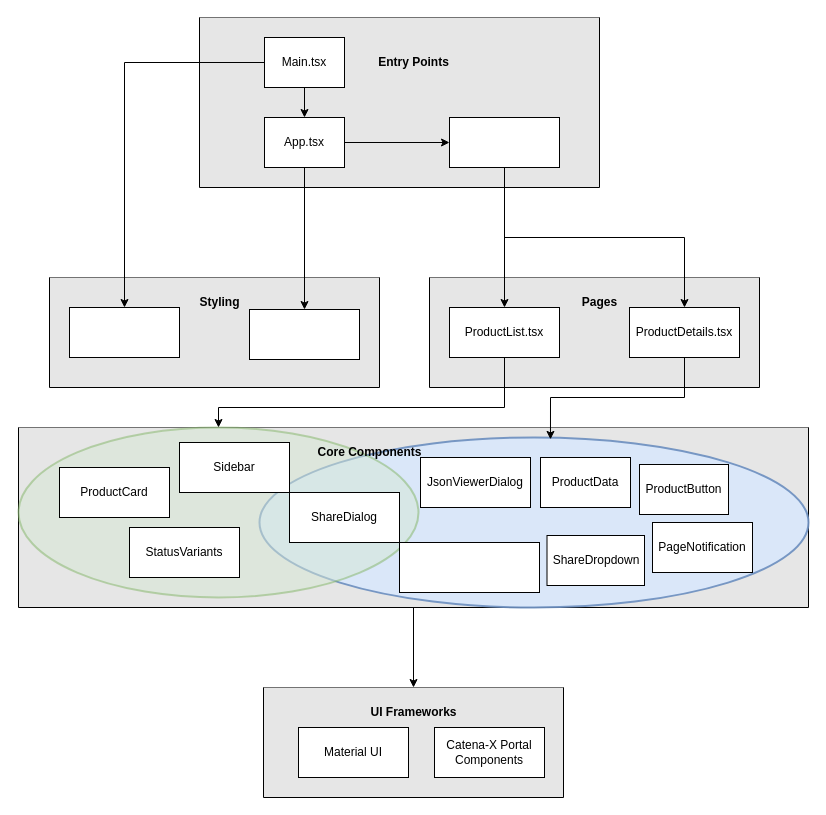
The diagram is 826 pixels wide and 815 high, and some of its shapes have lost their labels. Each missing label, with the centre of its shape:
"AppRoutes" belongs at point (504, 142).
"InstanceProductsTable" belongs at point (469, 567).
"SCSS Styles" belongs at point (304, 334).
"Theme Provider" belongs at point (124, 332).
